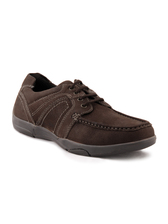shoes: (6, 71, 160, 155)
